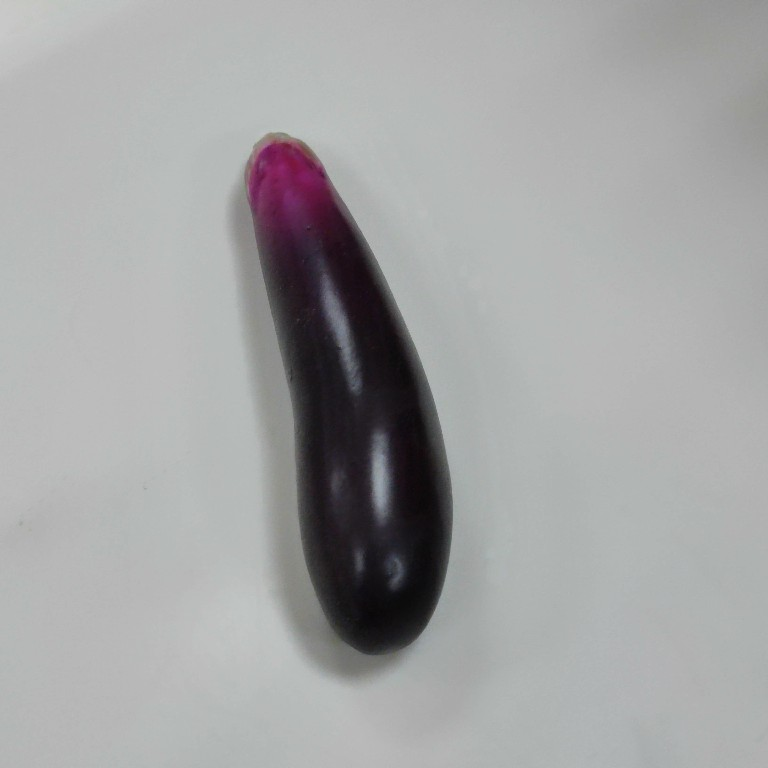fruit_eggplant: (240, 127, 459, 659)
